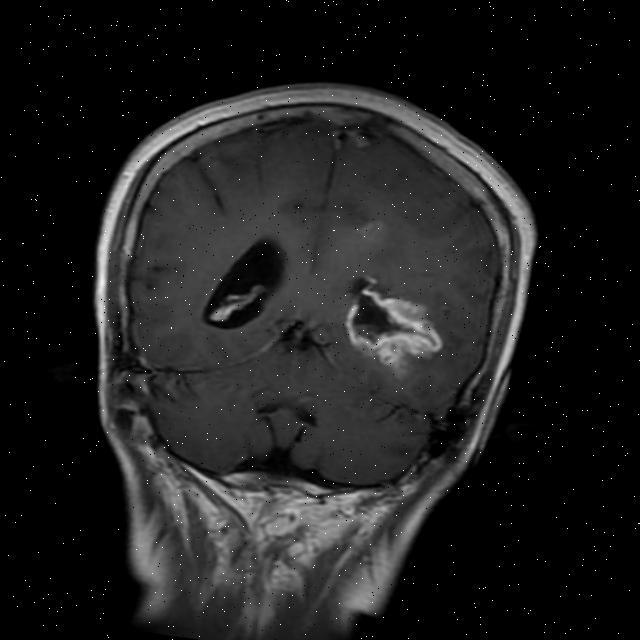Glioma: (336, 271, 454, 376)
